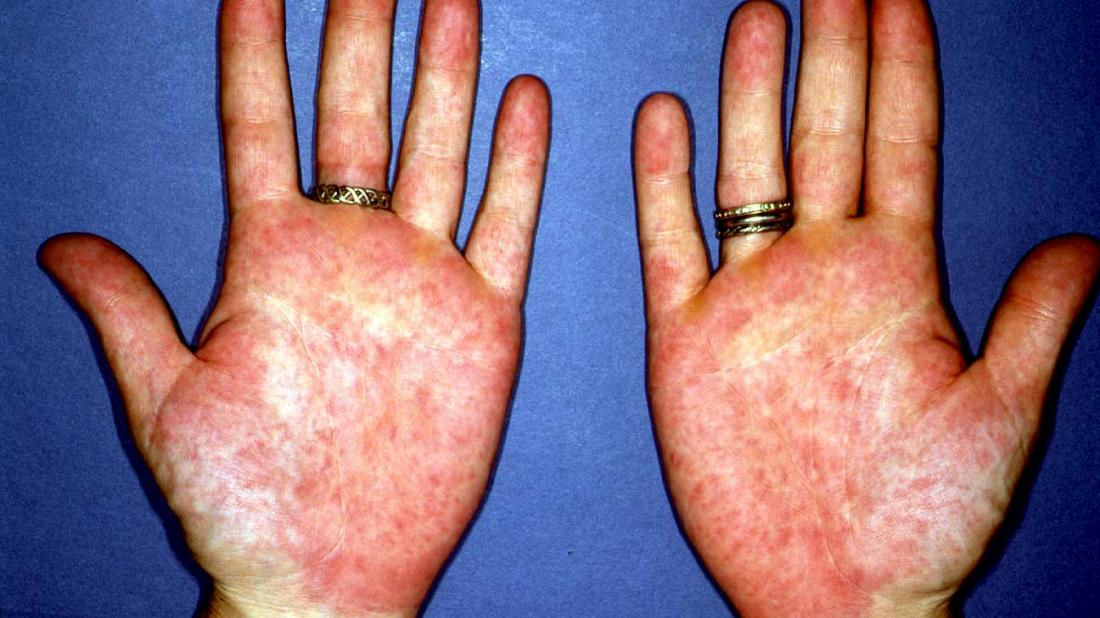Diseased: (190, 38, 939, 586)
